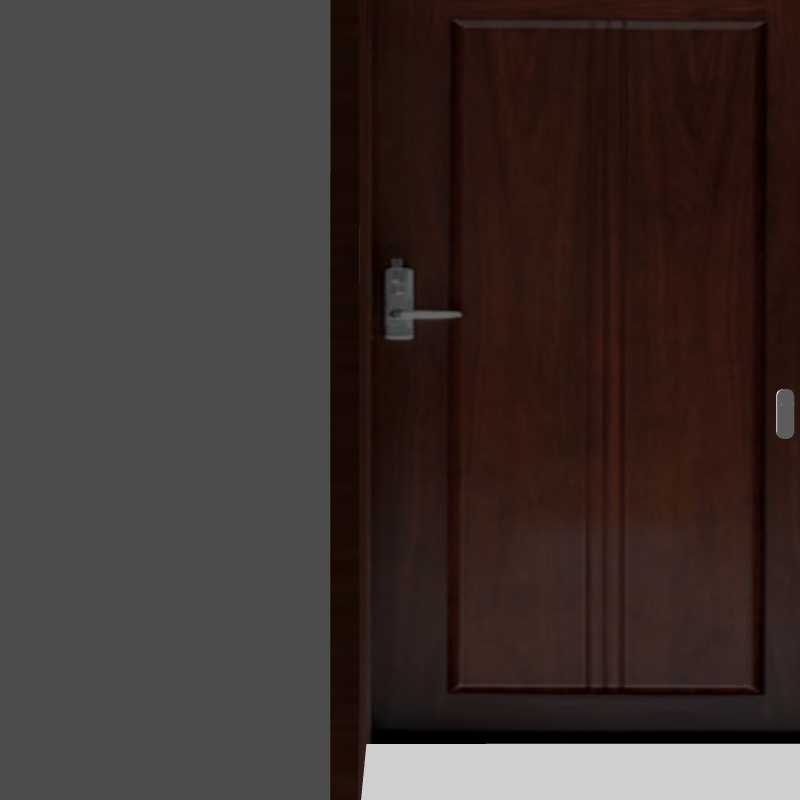handle: (367, 257, 469, 347)
